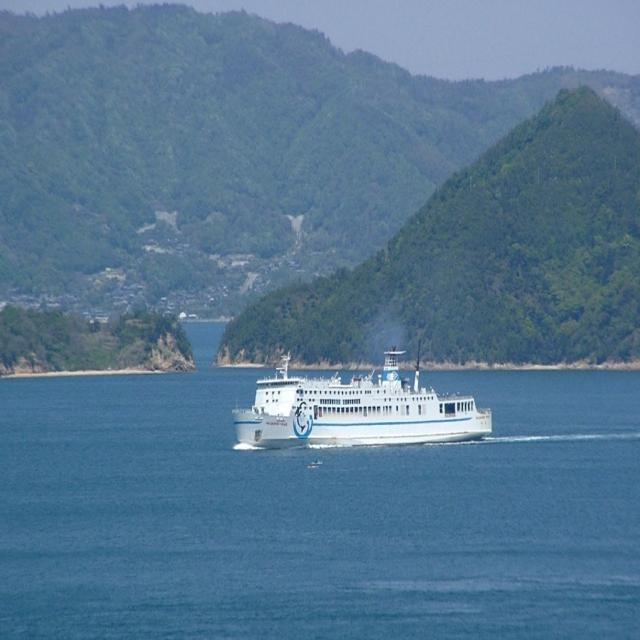passenger ship: (240, 350, 482, 469)
